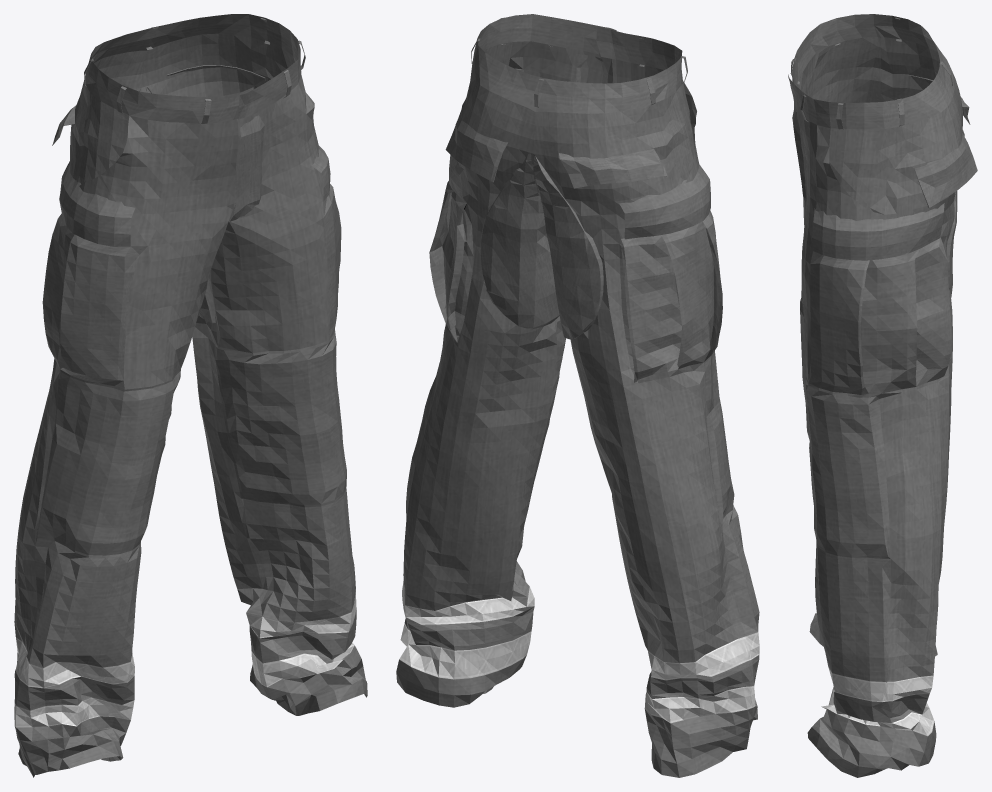
The model's file is mhw_elvs_emt_uniform_pants_male.glb.
3 views of the same model, side by side, from view 1: azimuth 30°, elevation 25°; view 2: azimuth 150°, elevation 25°; view 3: azimuth 270°, elevation 25° (orthographic). The views are drawn at different scales.
Visible parts, largest first — view 1: mhw_elvs_emt_uniform_pants_male; view 2: mhw_elvs_emt_uniform_pants_male; view 3: mhw_elvs_emt_uniform_pants_male.
Part boxes in pixels (x1=…): mhw_elvs_emt_uniform_pants_male: x1=14, y1=14, x2=367, y2=777; mhw_elvs_emt_uniform_pants_male: x1=396, y1=14, x2=759, y2=777; mhw_elvs_emt_uniform_pants_male: x1=788, y1=14, x2=977, y2=777.
Bounding box in the file's own units: 0.5827 × 1.11 × 0.2898.
Materials: 1 (1 with a texture image).
